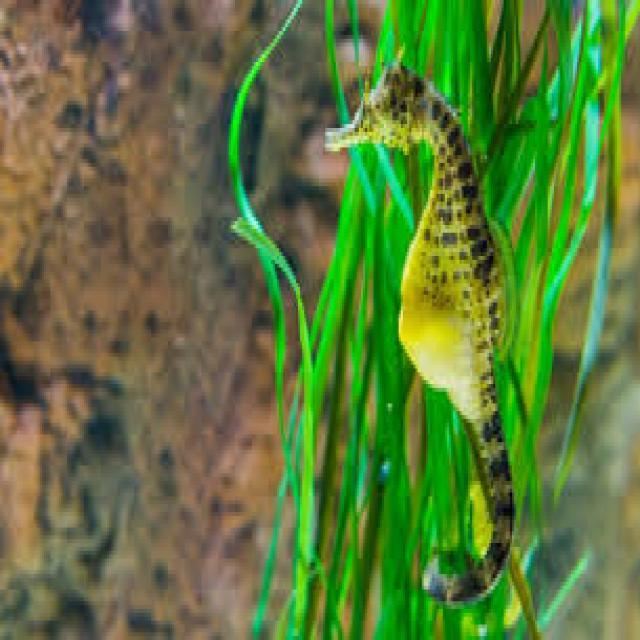SeaHorse: (325, 62, 516, 605)
